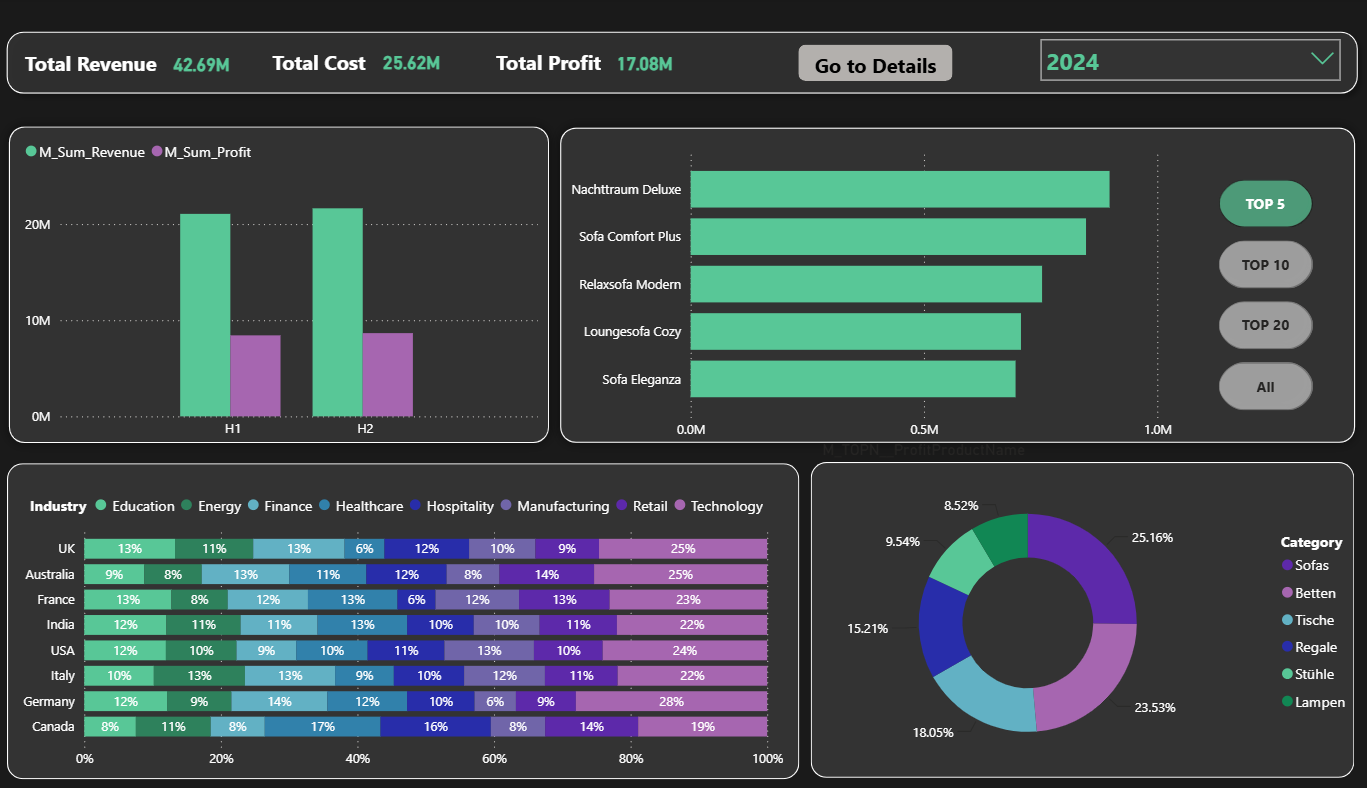

This screenshot's page, from the dashboard's own definition file:
{"tool":"powerbi","page":{"name":"Header","canvas":[1280,720],"ordinal":0},"visuals":[{"type":"shape","box":[9.1,411.5,739.9,295],"z":0},{"type":"shape","box":[1.4,87.1,524.3,315.7],"z":1000},{"type":"shape","box":[516.3,88.6,762.3,314.3],"z":2000},{"type":"shape","box":[759.5,411.4,507.6,294.9],"z":3000},{"type":"shape","box":[0,0,1279.8,75.9],"z":4000},{"type":"card","fields":{"Values":["ListOfMeasures.M_Sum_Cost"]},"box":[339.9,19.2,95,40.6],"z":5000},{"type":"card","fields":{"Values":["ListOfMeasures.M_Sum_Profit"]},"box":[546,16.5,117.2,47.2],"z":6000},{"type":"card","fields":{"Values":["ListOfMeasures.M_Sum_Revenue"]},"box":[138.2,22,106.7,36.7],"z":7000},{"type":"textbox","box":[252.7,20.1,122.5,40],"z":8000},{"type":"textbox","box":[21.5,20.5,140.5,37.2],"z":9000},{"type":"textbox","box":[461,20.1,122.5,40],"z":10000},{"type":"clusteredColumnChart","fields":{"Y":["ListOfMeasures.M_Sum_Revenue","ListOfMeasures.M_Sum_Profit"],"Category":["DimDate.HalfYearName Hierarchy.HalfYearName","DimDate.HalfYearName Hierarchy.QuarterName","DimDate.HalfYearName Hierarchy.MonthName"]},"box":[21.4,99.8,489,297.8],"z":11000},{"type":"clusteredBarChart","fields":{"Category":["DimProduct.ProductName"],"Y":["ListOfMeasures.M_TOPN__ProfitProductName"]},"box":[522.8,108.9,579.8,303.8],"z":12000},{"type":"hundredPercentStackedBarChart","fields":{"Category":["DimCustomers.Country"],"Y":["ListOfMeasures.M_Sum_Revenue"],"Series":["DimCustomers.Industry"]},"box":[12.1,431.2,727.8,275.4],"z":13000},{"type":"donutChart","fields":{"Category":["DimProduct.Category"],"Y":["ListOfMeasures.M_Sum_Profit"]},"box":[721.2,422,558.8,277.5],"z":14000},{"type":"slicer","fields":{"Values":["DimDate.Year_Date"]},"box":[963.8,6.3,300,55.7],"z":15000},{"type":"advancedSlicerVisual","fields":{"Values":["TopTBL.Value"]},"box":[1145.6,100,100,220.3],"z":16000},{"type":"actionButton","box":[748.1,21.5,144.3,34.2],"z":17000}]}

Visuals, with their boxes in screenshot pixels (x1, y1, x2, y2), scaled from the page's 1280x720 canvas onto the 1367x788 screenshot:
shape: [x1=10, y1=450, x2=800, y2=773]
shape: [x1=1, y1=95, x2=561, y2=441]
shape: [x1=551, y1=97, x2=1366, y2=441]
shape: [x1=811, y1=450, x2=1353, y2=773]
shape: [x1=0, y1=0, x2=1366, y2=83]
card - ListOfMeasures.M_Sum_Cost: [x1=363, y1=21, x2=464, y2=65]
card - ListOfMeasures.M_Sum_Profit: [x1=583, y1=18, x2=708, y2=70]
card - ListOfMeasures.M_Sum_Revenue: [x1=148, y1=24, x2=262, y2=64]
textbox: [x1=270, y1=22, x2=401, y2=66]
textbox: [x1=23, y1=22, x2=173, y2=63]
textbox: [x1=492, y1=22, x2=623, y2=66]
clusteredColumnChart - ListOfMeasures.M_Sum_Revenue x ListOfMeasures.M_Sum_Profit: [x1=23, y1=109, x2=545, y2=435]
clusteredBarChart - DimProduct.ProductName x ListOfMeasures.M_TOPN__ProfitProductName: [x1=558, y1=119, x2=1178, y2=452]
hundredPercentStackedBarChart - DimCustomers.Country x ListOfMeasures.M_Sum_Revenue: [x1=13, y1=472, x2=790, y2=773]
donutChart - DimProduct.Category x ListOfMeasures.M_Sum_Profit: [x1=770, y1=462, x2=1366, y2=766]
slicer - DimDate.Year_Date: [x1=1029, y1=7, x2=1350, y2=68]
advancedSlicerVisual - TopTBL.Value: [x1=1223, y1=109, x2=1330, y2=351]
actionButton: [x1=799, y1=24, x2=953, y2=61]
